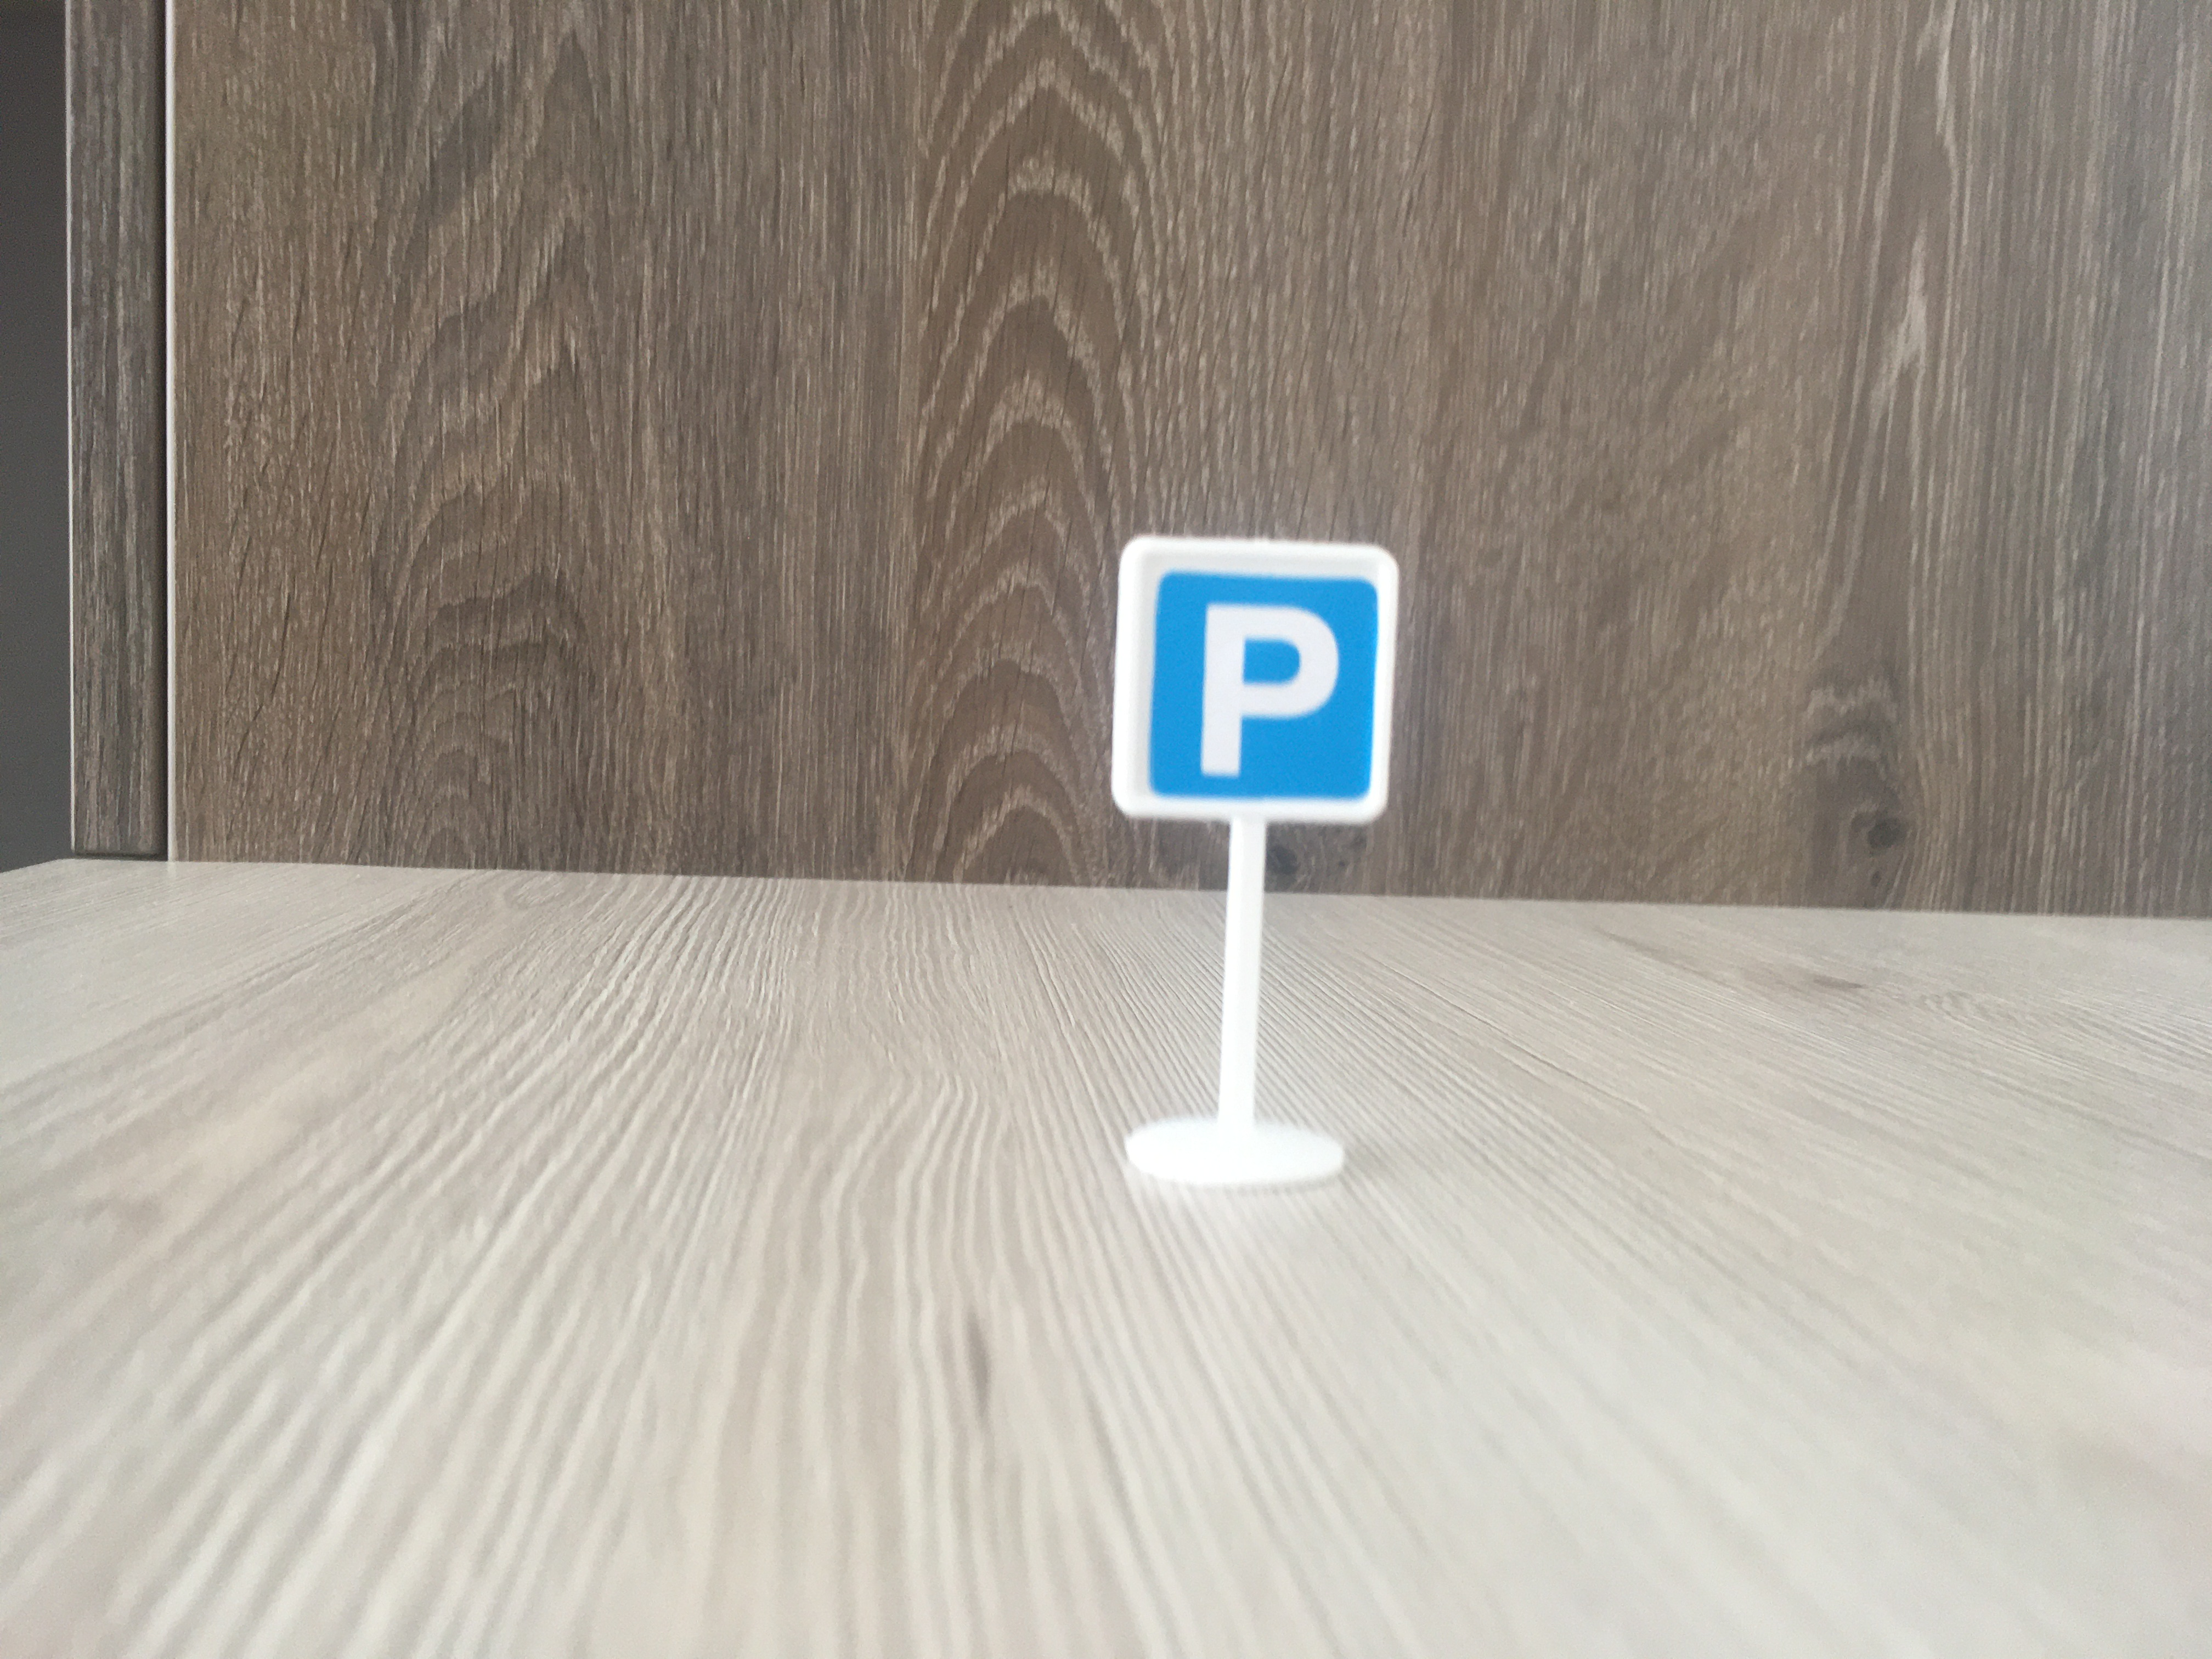parking: (1118, 538, 1400, 830)
